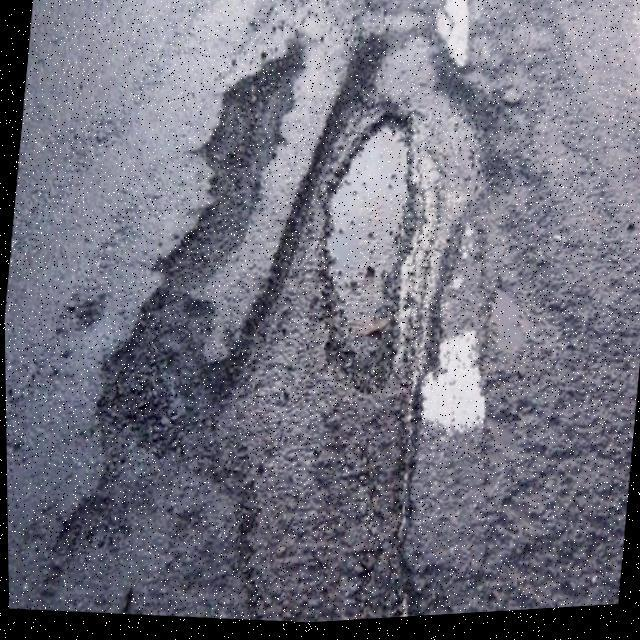pothole: (136, 31, 312, 358), (288, 93, 442, 407), (427, 0, 482, 81)
